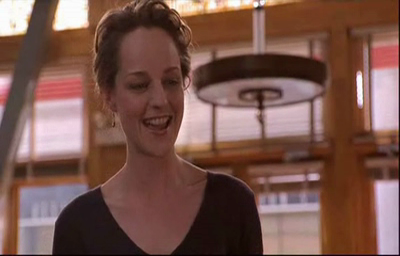face: (115, 28, 184, 157)
mcu: (1, 1, 400, 256)
person: (52, 1, 263, 255)
